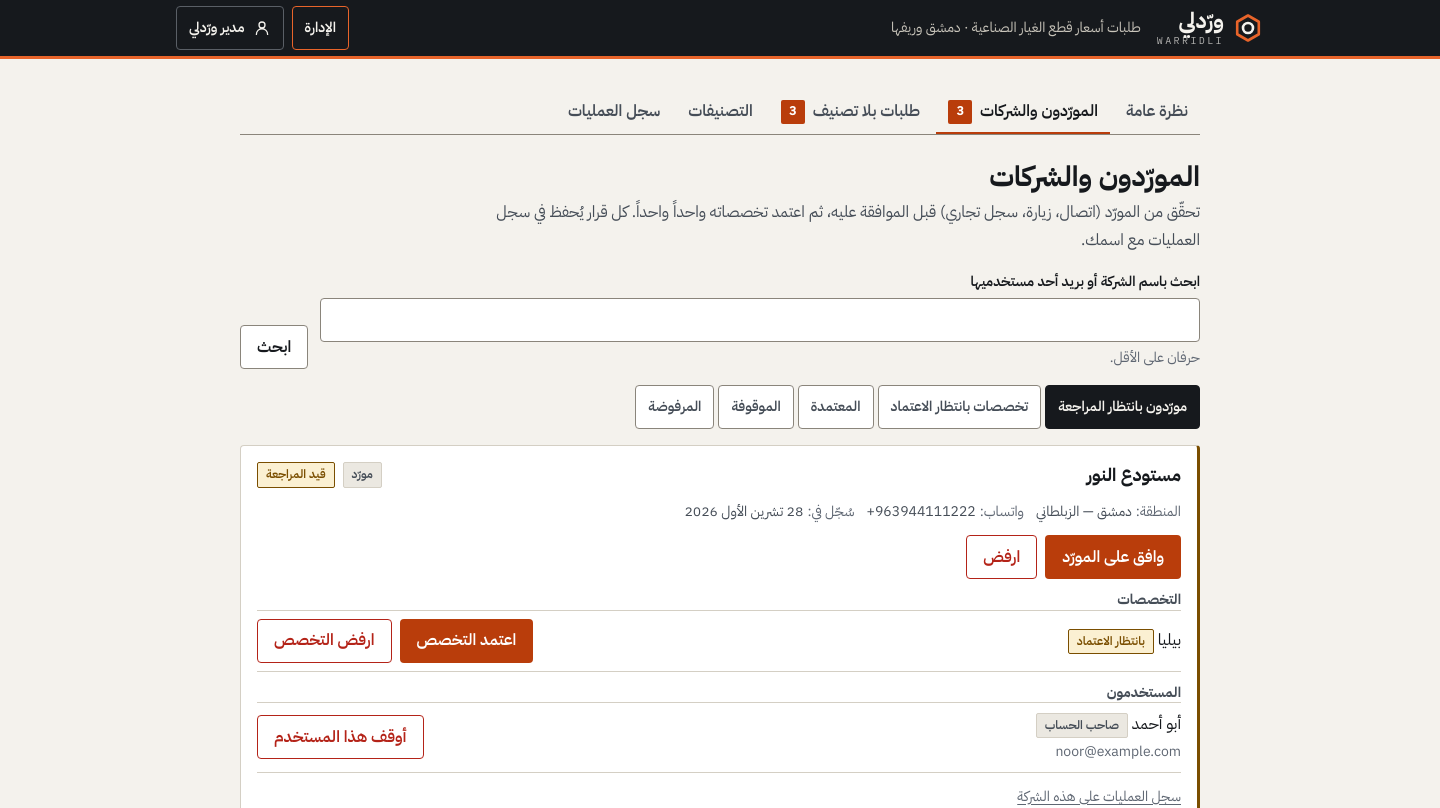
Test: supplier vetting › requires a reason before rejecting, and Escape backs out
Click the button "ارفض" at [1002, 557], box top-left (966, 535), bottom-right (1037, 579)
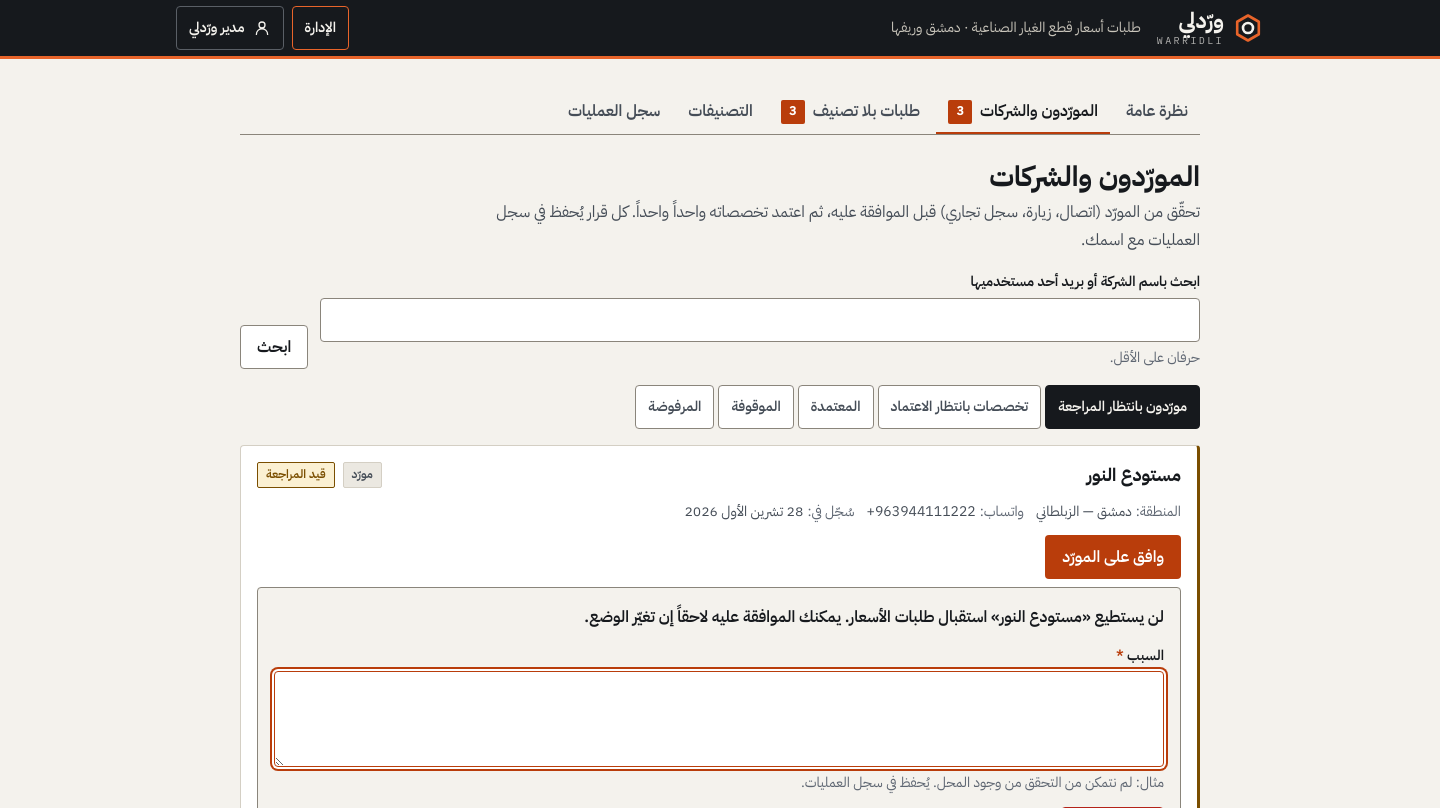
Press Escape
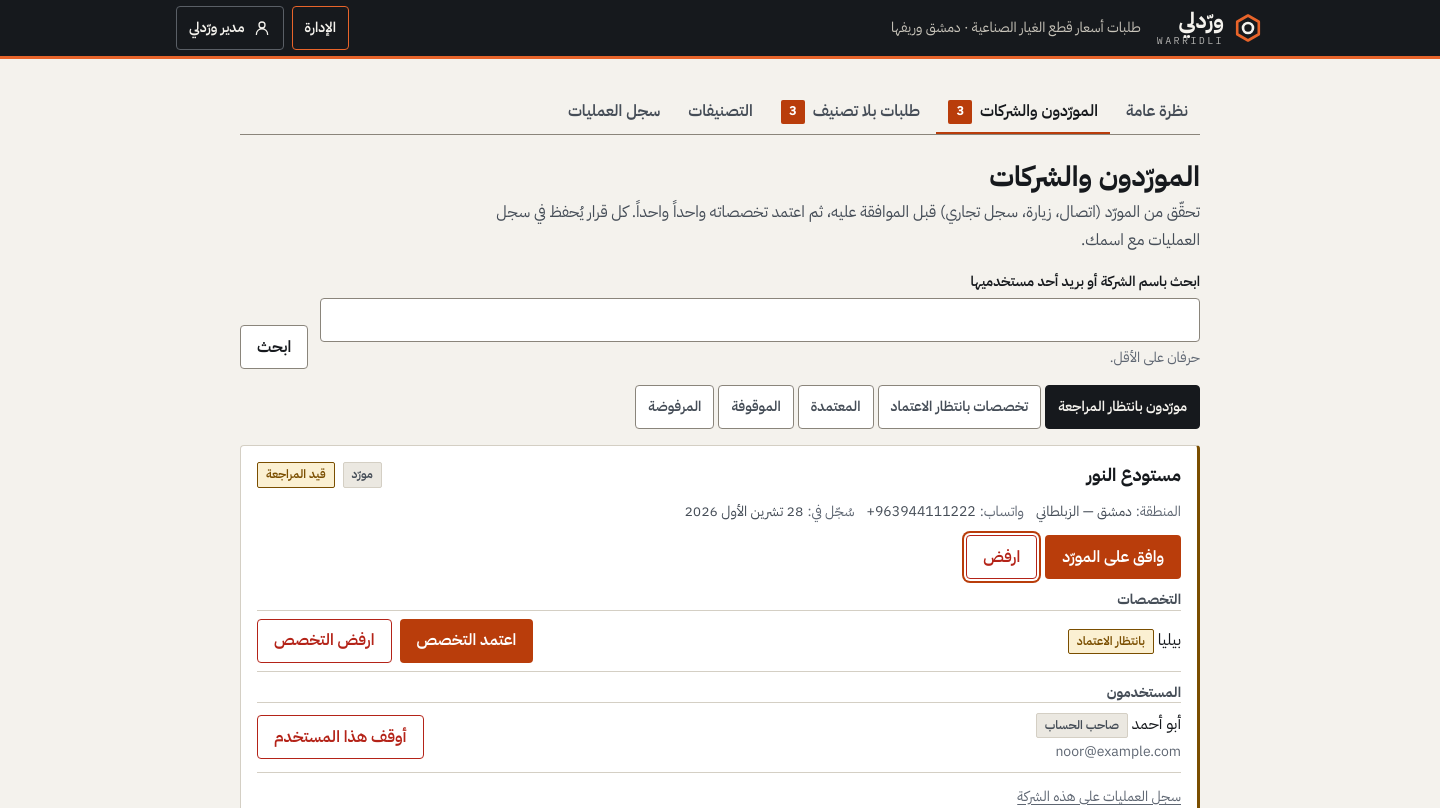
Click the button "ارفض" at [1002, 557], box top-left (966, 535), bottom-right (1037, 579)
(page scrolled)
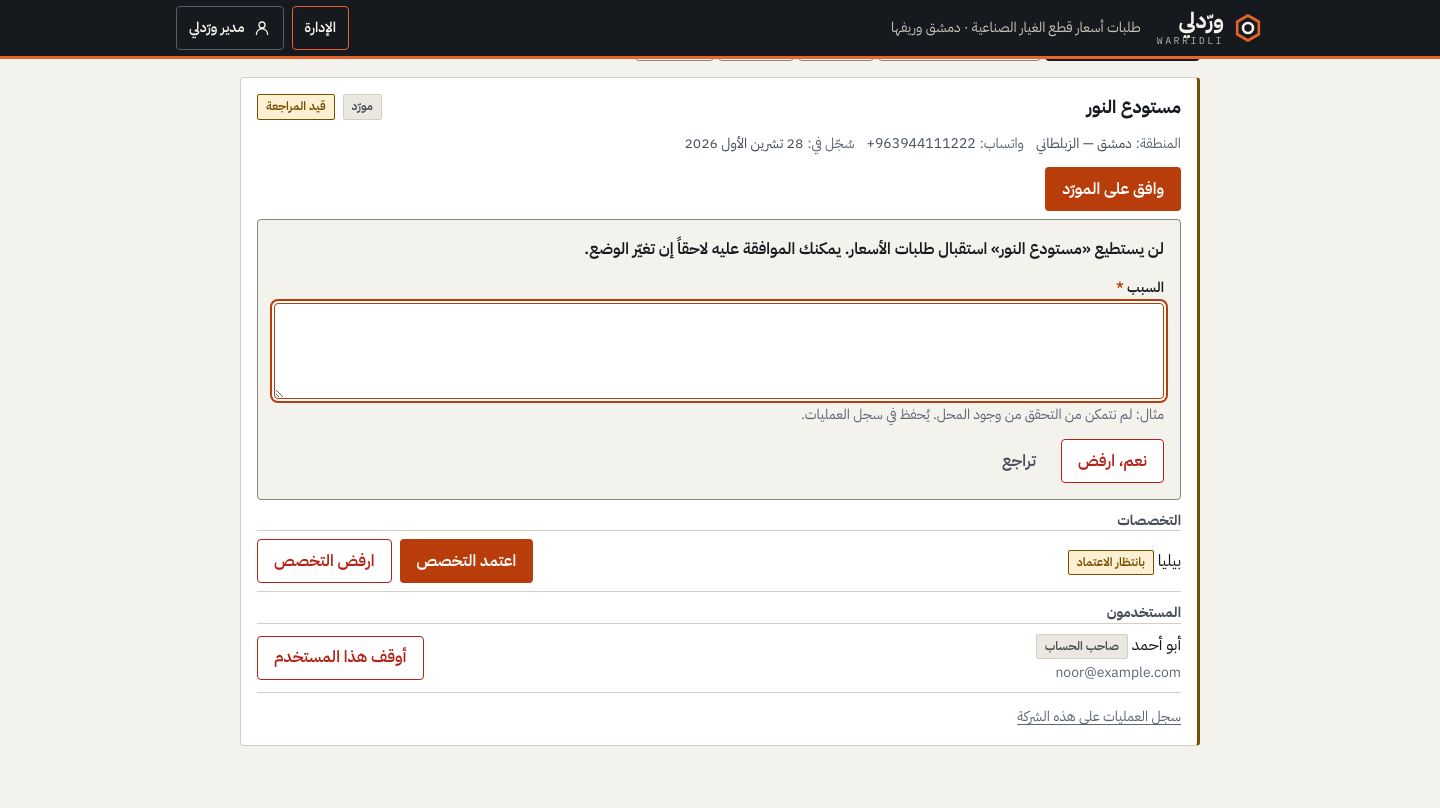
Click the button "نعم، ارفض" at [1112, 461], box top-left (1061, 439), bottom-right (1164, 483)
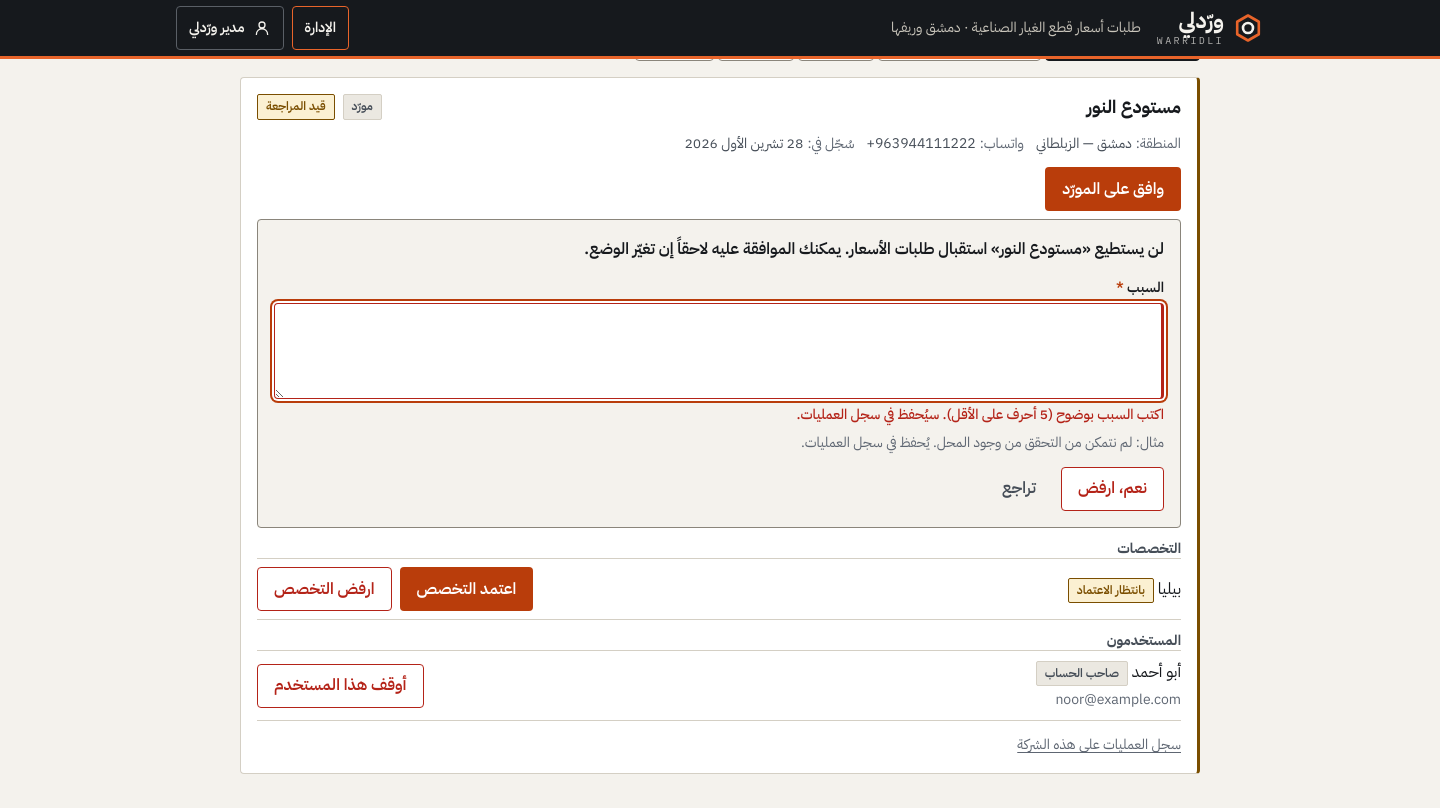
Check: the text "اكتب السبب بوضوح (5 أحرف على الأقل). سيُحفظ في سجل العمليات." is shown, box top-left (796, 404), bottom-right (1164, 425)
Type "لم نتمكن من التحقق من المحل" into the text box labelled "السبب *" at [719, 351], box top-left (274, 303), bottom-right (1164, 399)
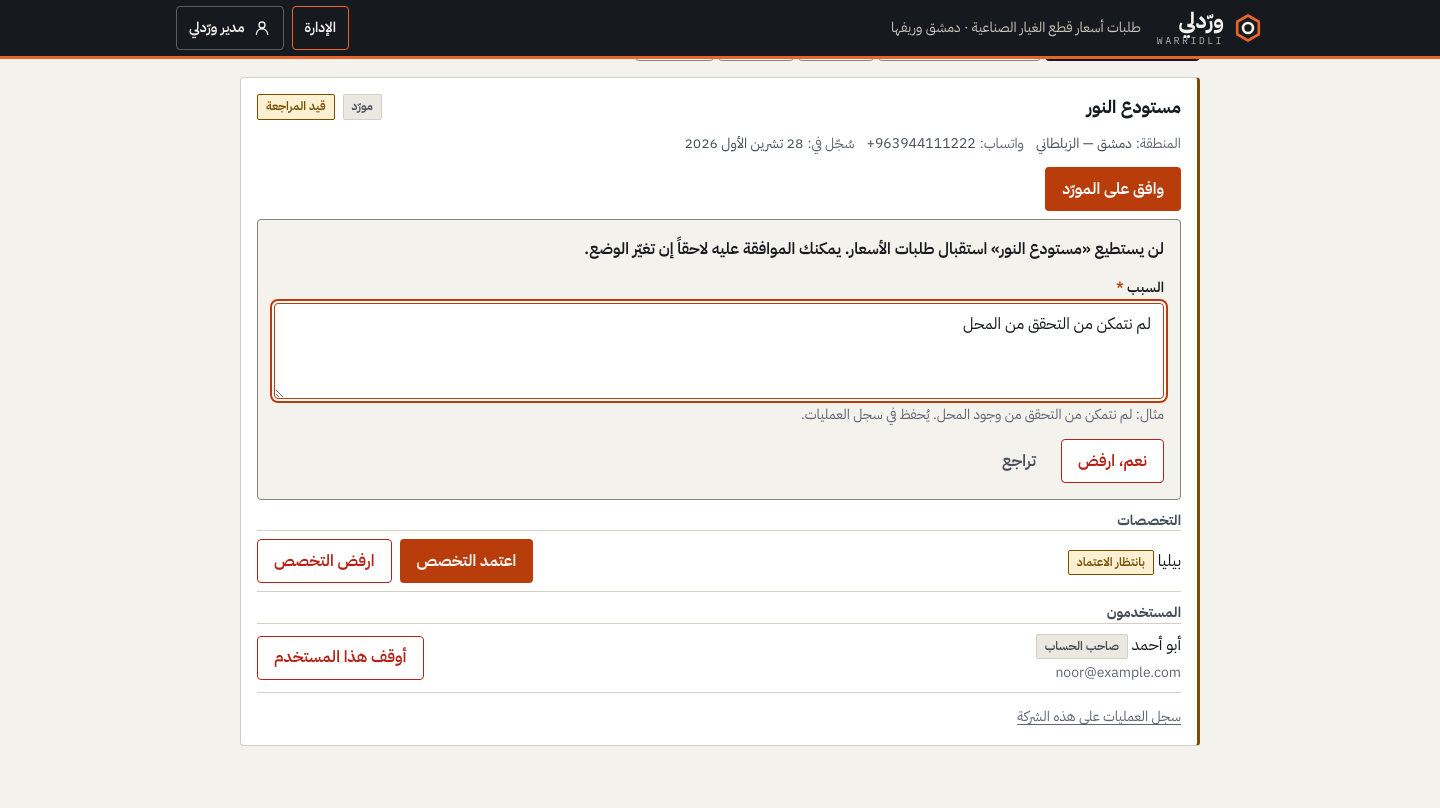
Click the button "نعم، ارفض" at [1112, 461], box top-left (1061, 439), bottom-right (1164, 483)
(page scrolled)
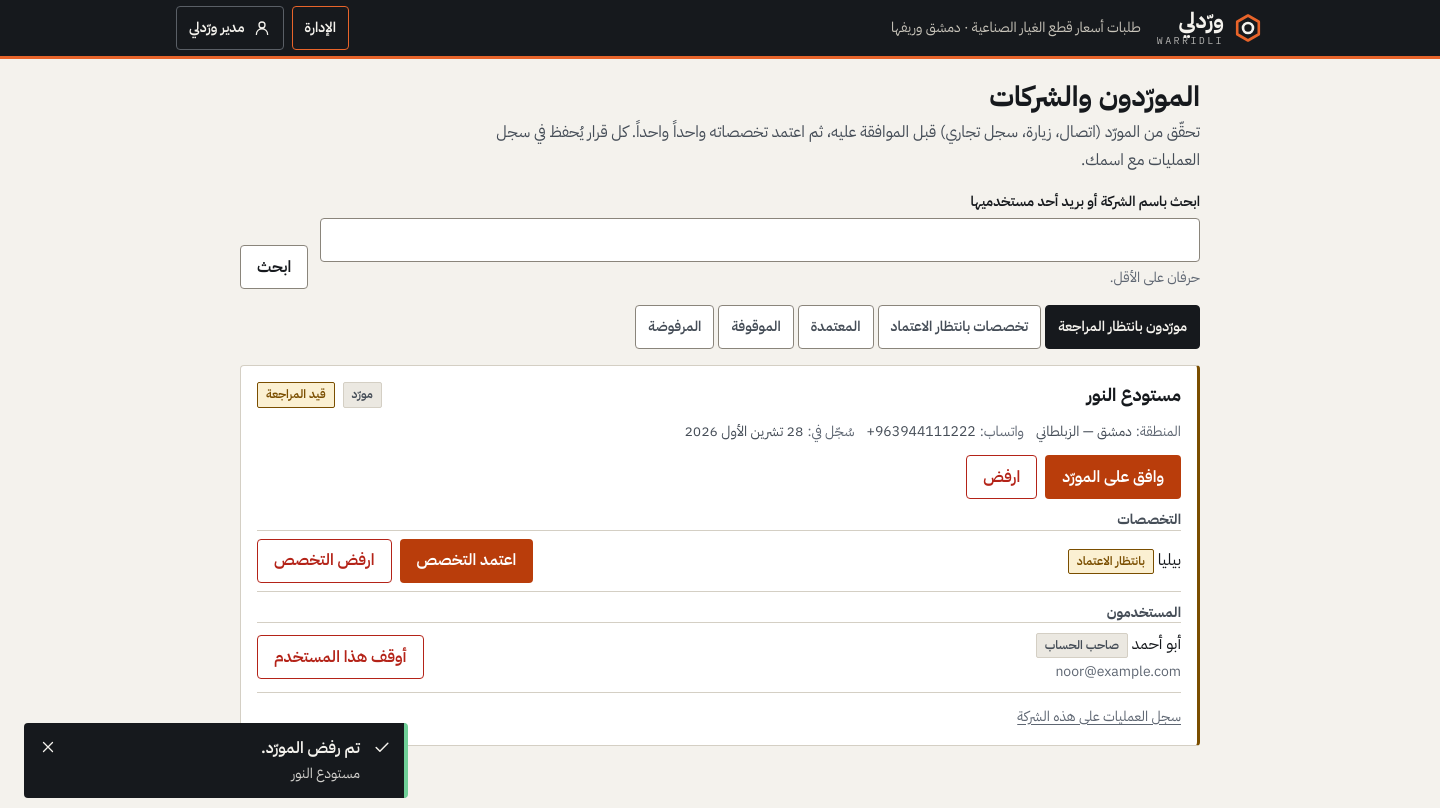
Check: the text "تم رفض المورّد." is shown, box top-left (261, 736), bottom-right (360, 760)
